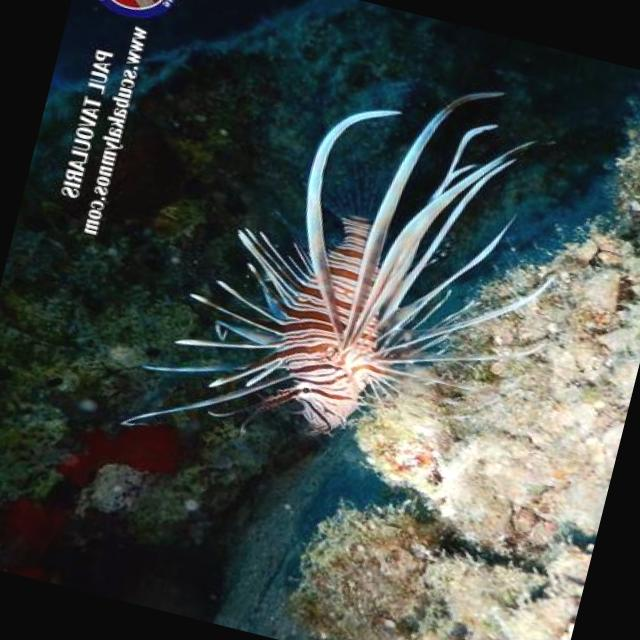Aslan Baligi: (115, 18, 604, 522)
